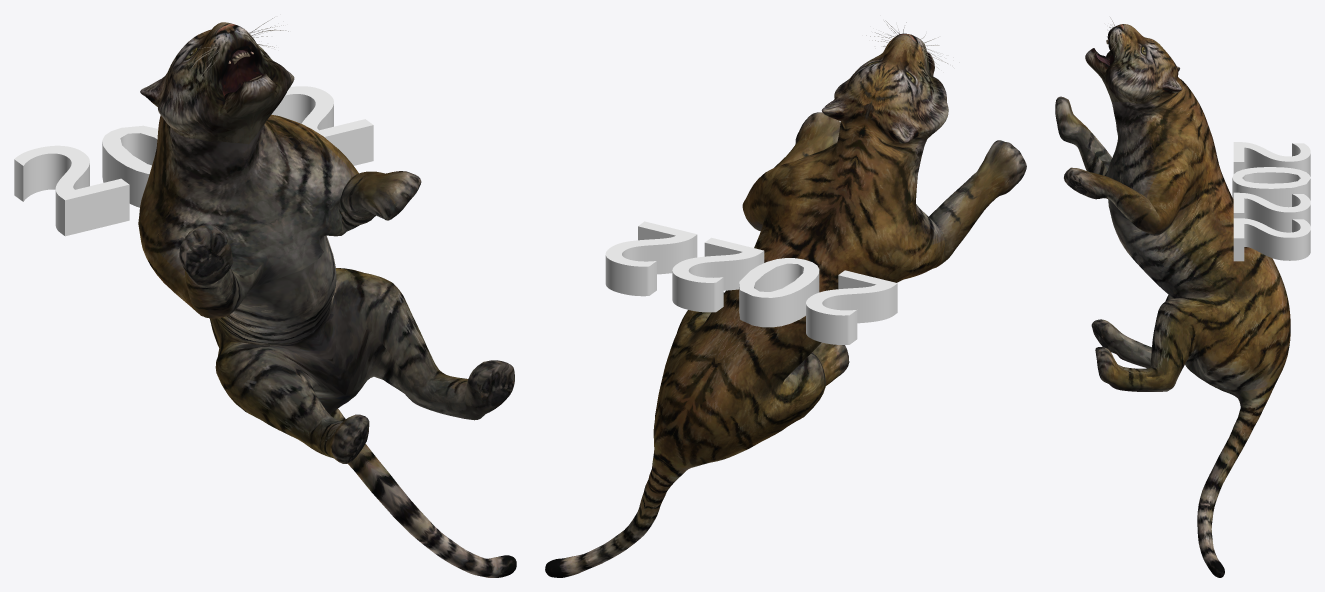
The model's file is asset5.glb.
The picture shows the model from 3 angles, left to right: view 1: azimuth 30°, elevation 25°; view 2: azimuth 150°, elevation 25°; view 3: azimuth 270°, elevation 25°; orthographic projection. The views are drawn at different scales.
Parts seen in each view (by area): view 1: D1201A12, mesh_id38.001; view 2: D1201A12, mesh_id38.001; view 3: D1201A12, mesh_id38.001.
Boxes of the visible parts, bbox=[...] form: D1201A12: bbox=[138, 17, 516, 577]; mesh_id38.001: bbox=[14, 86, 373, 236]; D1201A12: bbox=[545, 20, 1026, 577]; mesh_id38.001: bbox=[605, 221, 897, 344]; D1201A12: bbox=[1055, 17, 1290, 577]; mesh_id38.001: bbox=[1232, 142, 1310, 261].
Bounding box in the file's own units: 200 × 291 × 151.
3 materials, 1 textured.
